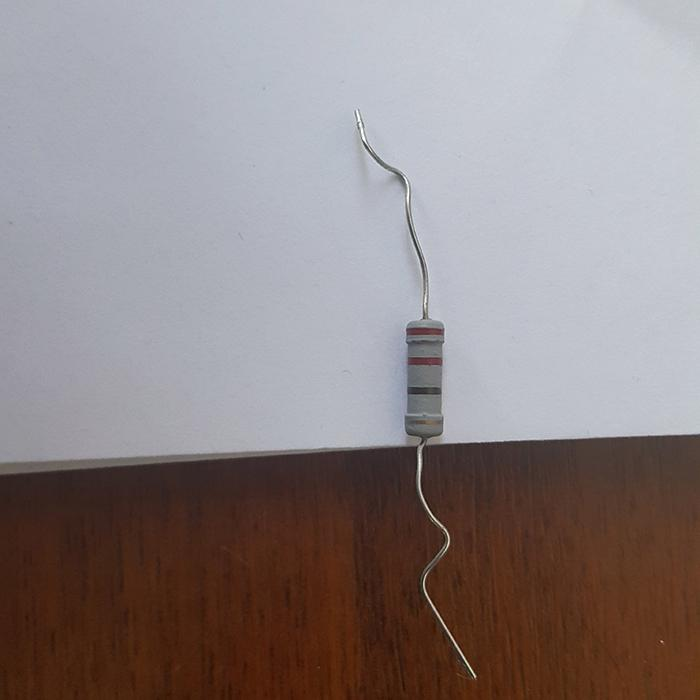resistor: (405, 317, 445, 439)
